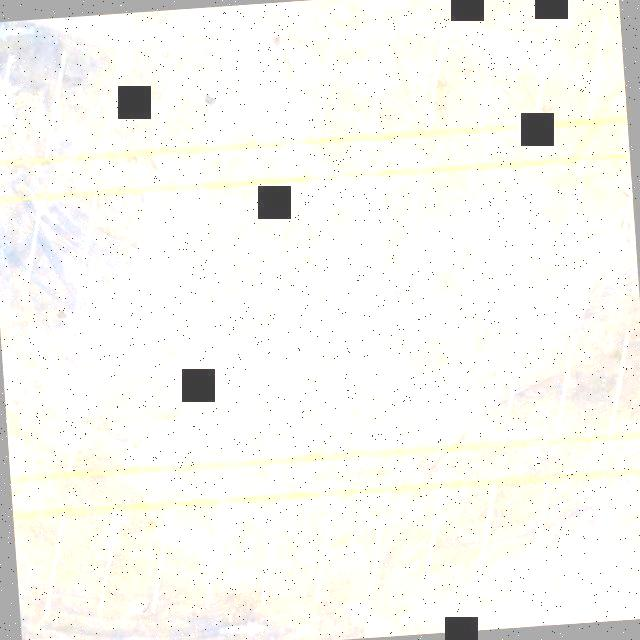free: (61, 355, 156, 478), (230, 174, 315, 303), (120, 180, 204, 305), (88, 500, 174, 618), (198, 491, 284, 609), (385, 340, 471, 458), (526, 472, 607, 597), (251, 32, 338, 148), (360, 482, 444, 601), (466, 476, 550, 595), (11, 191, 95, 309), (361, 26, 446, 141), (470, 17, 557, 128), (546, 333, 632, 445), (493, 334, 575, 450), (398, 163, 479, 280), (98, 41, 178, 159), (308, 488, 389, 603), (278, 342, 355, 459), (144, 495, 219, 615), (254, 490, 332, 605), (0, 49, 64, 164), (12, 505, 63, 623)
